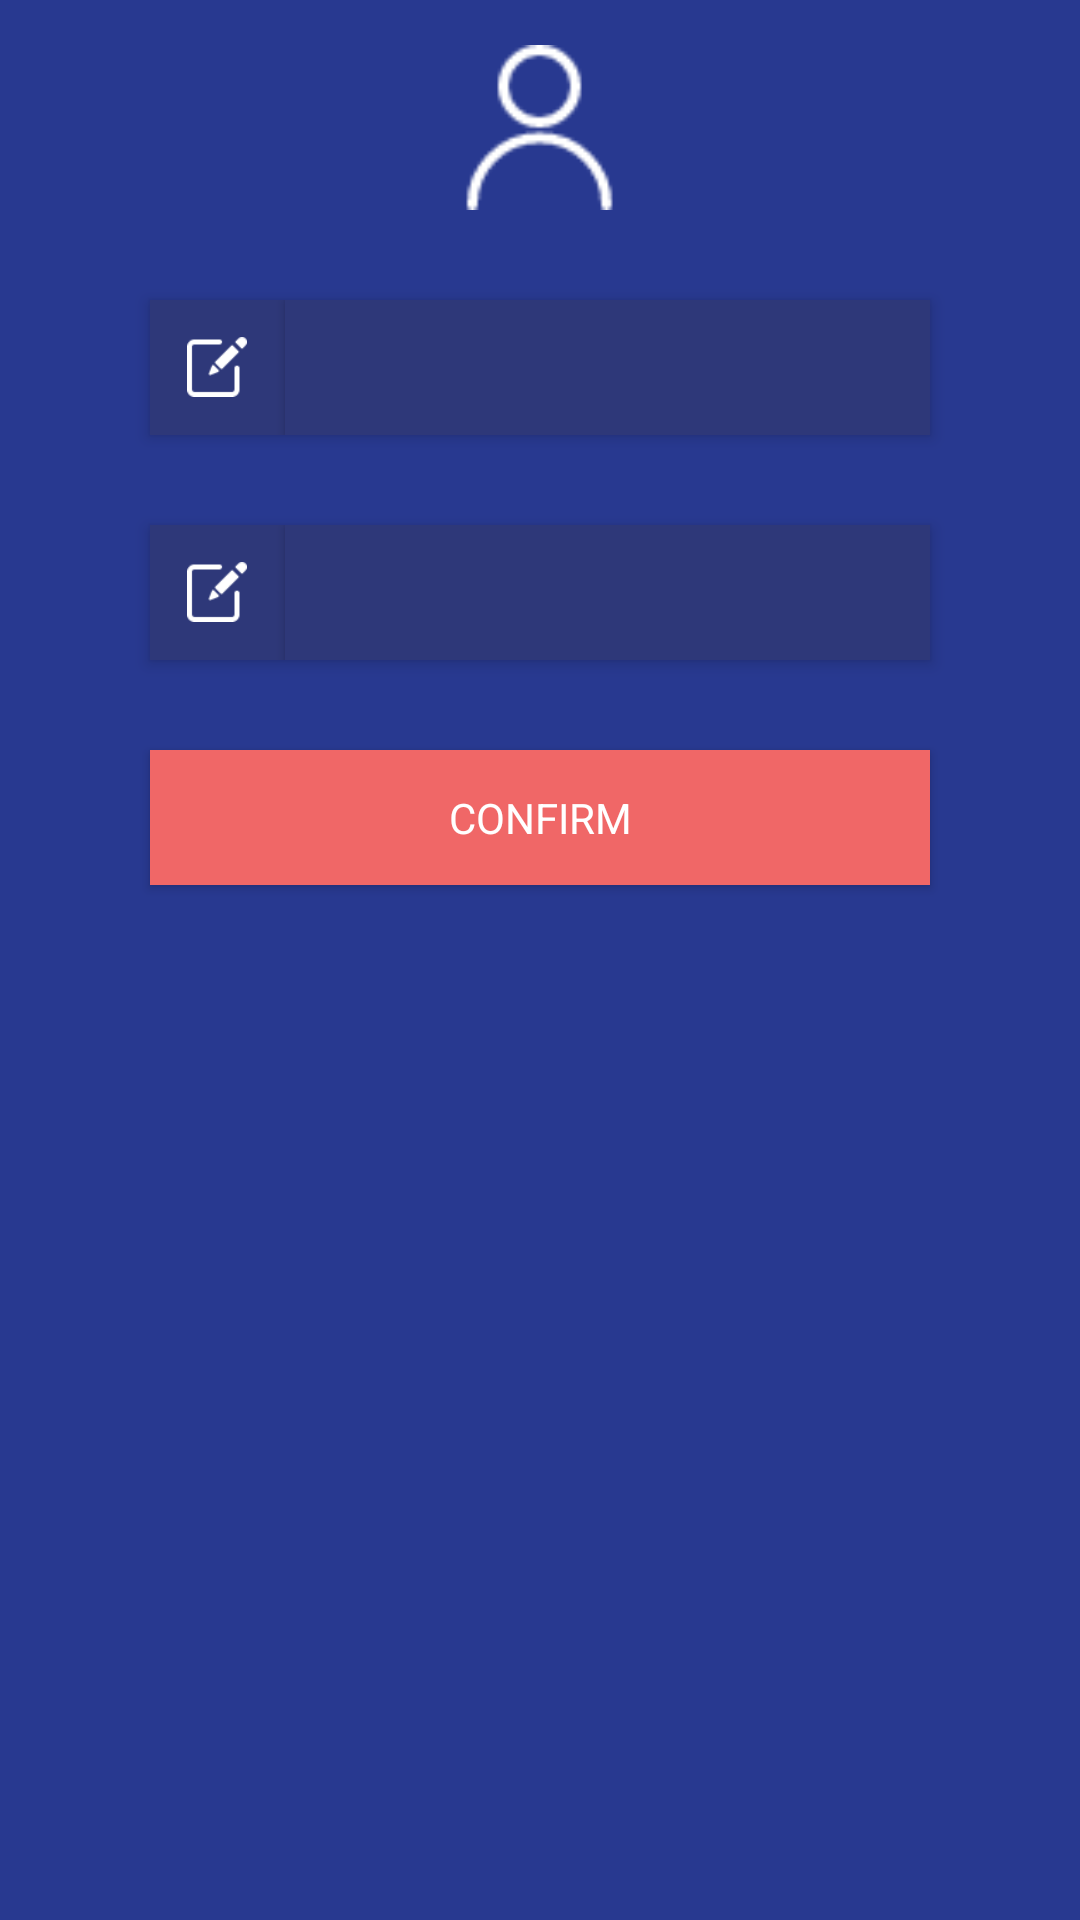

Named icons in this screenshot (1080px x 1920px) and their bounding boxes, {"left": x1, "top": y1, "right": x2, "bottom": y2}:
pencil: {"left": 187, "top": 337, "right": 247, "bottom": 397}, {"left": 187, "top": 562, "right": 247, "bottom": 622}
user: {"left": 466, "top": 45, "right": 613, "bottom": 210}
